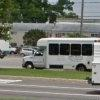Bus: (23, 31, 94, 77)
